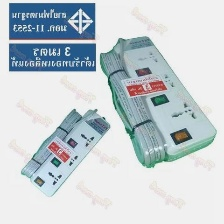three_eye_plug: (111, 35, 218, 164), (28, 104, 110, 199)
